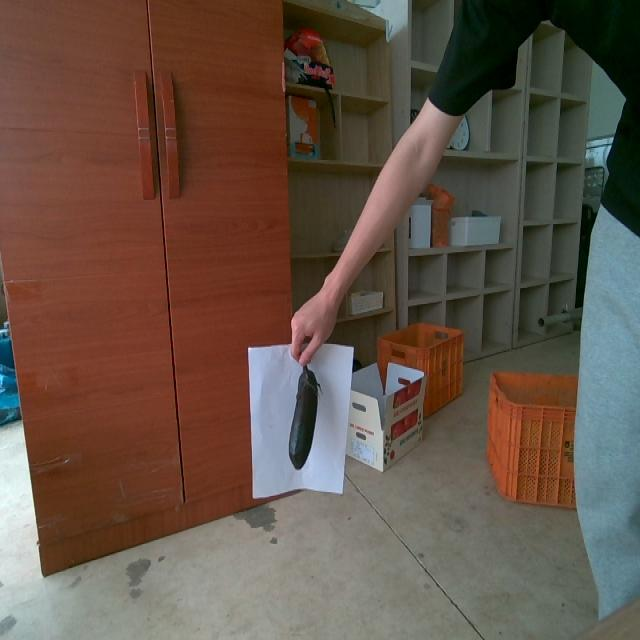Egg plant: (289, 365, 319, 468)
